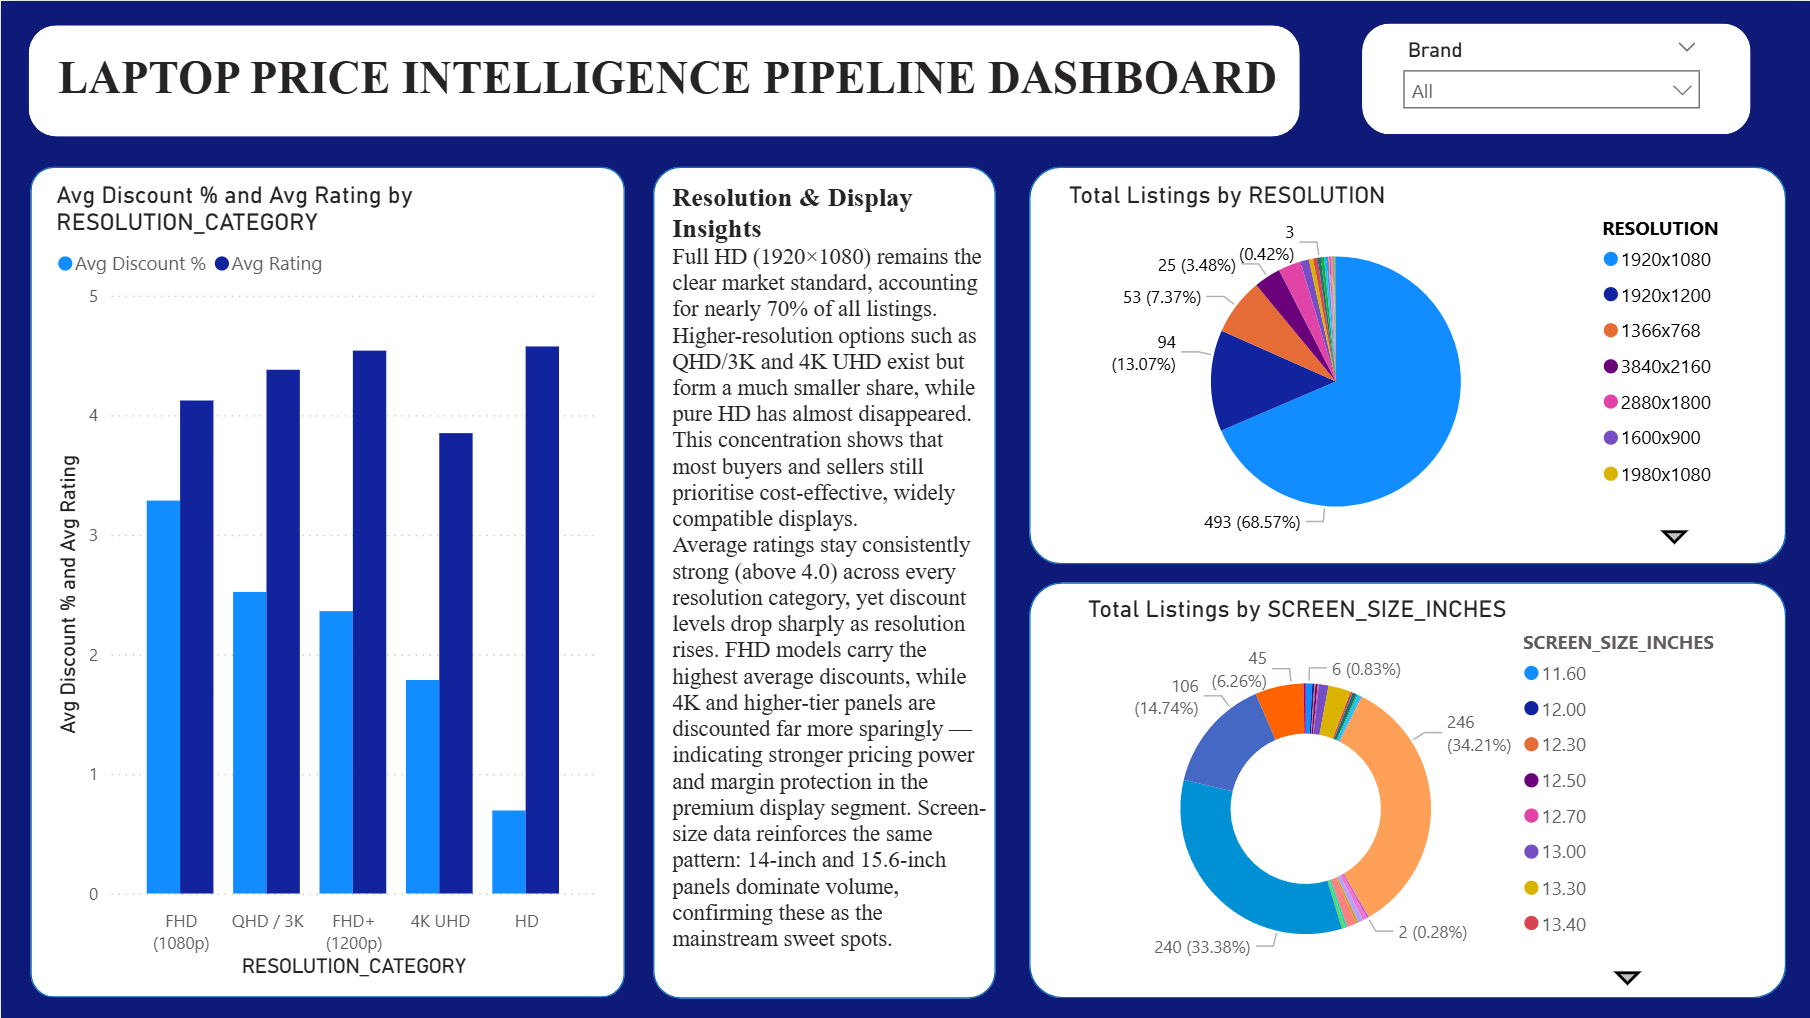

The page's visual inventory and layout, read from the dashboard file:
{"tool":"powerbi","page":{"name":"Page 5","canvas":[1280,720],"ordinal":4},"visuals":[{"type":"shape","box":[20.3,116.5,420.4,587.5],"z":0},{"type":"shape","box":[461.2,116.5,242.3,588.2],"z":1},{"type":"shape","box":[727.1,410.6,535.3,294.1],"z":2},{"type":"shape","box":[727.1,116.5,535.3,281.2],"z":3},{"type":"shape","box":[20,16.5,898.8,78.8],"z":4},{"type":"textbox","box":[35.3,30.6,871.8,55.3],"z":5},{"type":"pieChart","fields":{"Y":["_Measures.Total Listings"],"Category":["DIM_DISPLAY.RESOLUTION"]},"box":[749.4,127.1,487.1,264.7],"z":7},{"type":"donutChart","fields":{"Y":["_Measures.Total Listings"],"Series":["DIM_DISPLAY.SCREEN_SIZE_INCHES"]},"box":[763.5,420,463.5,283.5],"z":8},{"type":"textbox","box":[469.7,122.8,234.2,576.1],"z":9},{"type":"shape","box":[962.3,16.5,274.8,78.5],"z":10},{"type":"slicer","fields":{"Values":["DIM_BRAND.Brand"]},"box":[981.3,20.3,229.2,76],"z":11},{"type":"clusteredColumnChart","fields":{"Category":["DIM_DISPLAY.RESOLUTION_CATEGORY"],"Y":["_Measures.Avg Discount %","_Measures.Avg Rating"]},"box":[34.2,126.6,391.2,568.5],"z":12}]}

Visuals, with their boxes in screenshot pixels (x1, y1, x2, y2), scaled from the page's 1280x720 canvas onto the 1810x1018 screenshot:
shape: x1=29, y1=165, x2=623, y2=995
shape: x1=652, y1=165, x2=995, y2=996
shape: x1=1028, y1=581, x2=1785, y2=996
shape: x1=1028, y1=165, x2=1785, y2=562
shape: x1=28, y1=23, x2=1299, y2=135
textbox: x1=50, y1=43, x2=1283, y2=121
pieChart - _Measures.Total Listings x DIM_DISPLAY.RESOLUTION: x1=1060, y1=180, x2=1748, y2=554
donutChart - _Measures.Total Listings x DIM_DISPLAY.SCREEN_SIZE_INCHES: x1=1080, y1=594, x2=1735, y2=995
textbox: x1=664, y1=174, x2=995, y2=988
shape: x1=1361, y1=23, x2=1749, y2=134
slicer - DIM_BRAND.Brand: x1=1388, y1=29, x2=1712, y2=136
clusteredColumnChart - DIM_DISPLAY.RESOLUTION_CATEGORY x _Measures.Avg Discount %: x1=48, y1=179, x2=602, y2=983
